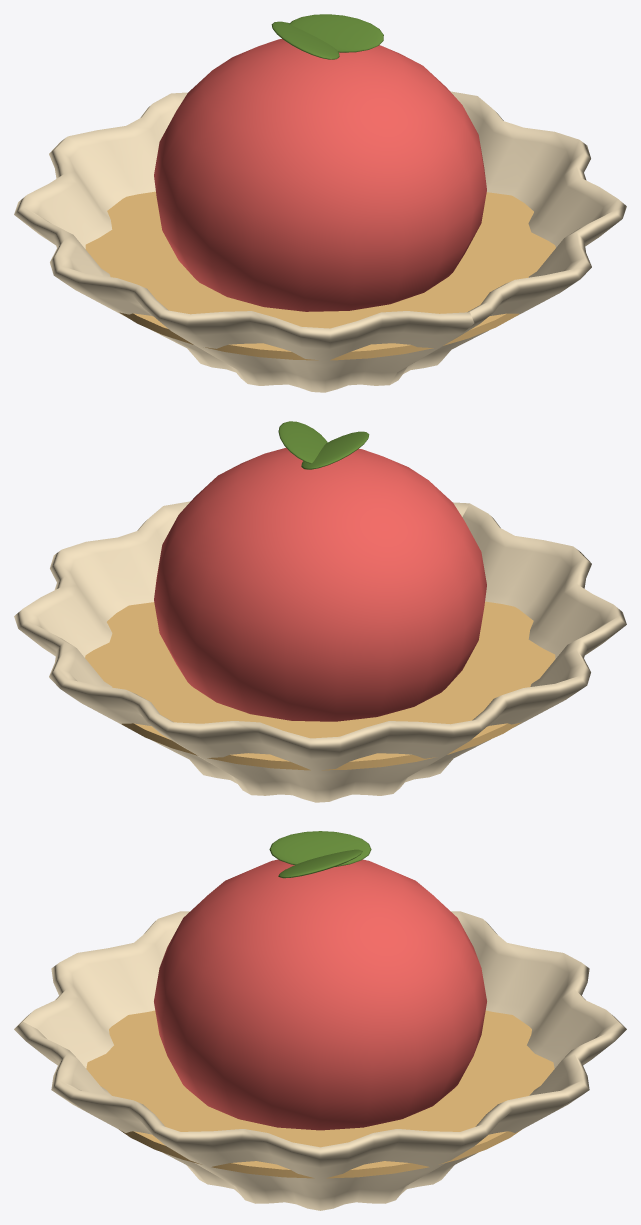
The model's file is 22-tomato.glb.
3 views of the same model, one above another, from view 1: azimuth 30°, elevation 25°; view 2: azimuth 150°, elevation 25°; view 3: azimuth 270°, elevation 25° (orthographic).
Visible parts, largest first — view 1: 토마토 다시 절임; view 2: 토마토 다시 절임; view 3: 토마토 다시 절임.
Boxes of the visible parts, box(x1,y1,x2,y2) form: 토마토 다시 절임: box(14, 14, 626, 392); 토마토 다시 절임: box(14, 421, 626, 802); 토마토 다시 절임: box(14, 831, 626, 1210).
Size of the model in its own units: 1.8 by 0.9862 by 1.8.
